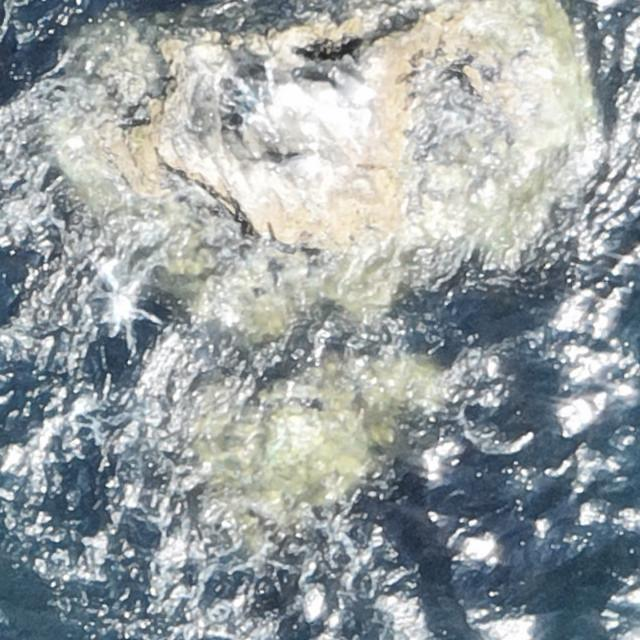umineko: (323, 67, 380, 106), (297, 73, 338, 106)
